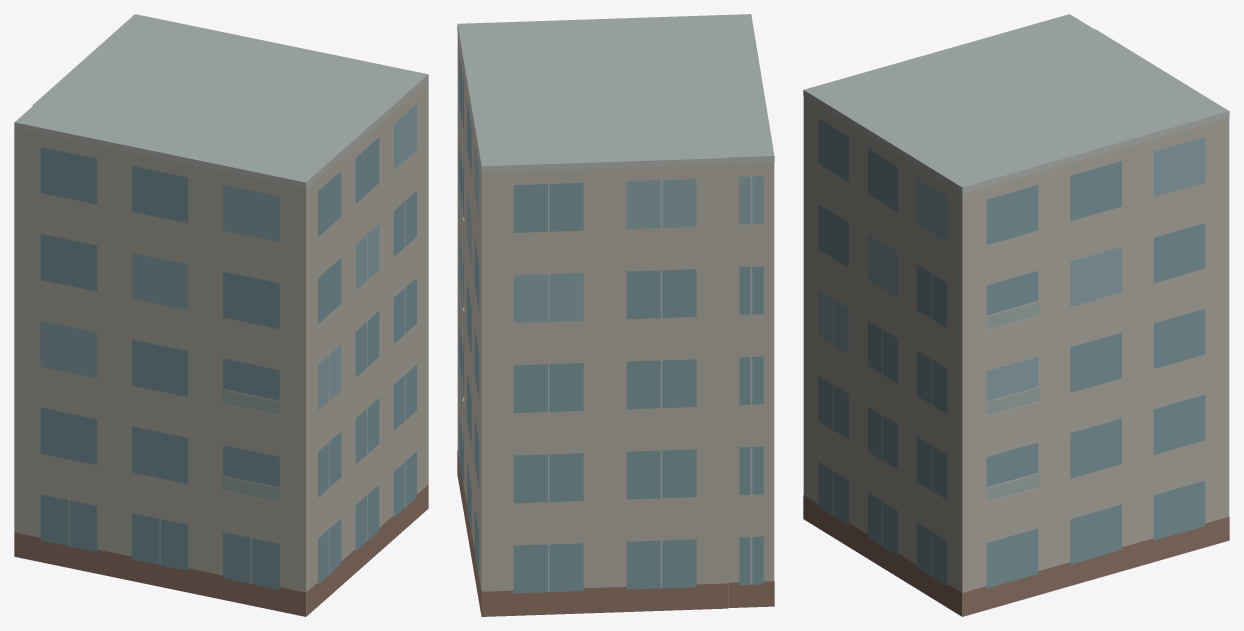
The model's file is survey-upis-32919907.glb.
3 renders of one model, left to right at view 1: azimuth 30°, elevation 25°; view 2: azimuth 150°, elevation 25°; view 3: azimuth 270°, elevation 25°, orthographic. The views are drawn at different scales.
Parts seen in each view (by area): view 1: survey-upis-32919907.tmp; view 2: survey-upis-32919907.tmp; view 3: survey-upis-32919907.tmp.
Boxes of the visible parts, x1,y1,x2,y2 form: survey-upis-32919907.tmp: [14, 14, 428, 616]; survey-upis-32919907.tmp: [457, 14, 774, 616]; survey-upis-32919907.tmp: [803, 14, 1229, 616].
Size of the model in its own units: 14.4 by 16.6 by 14.94.
